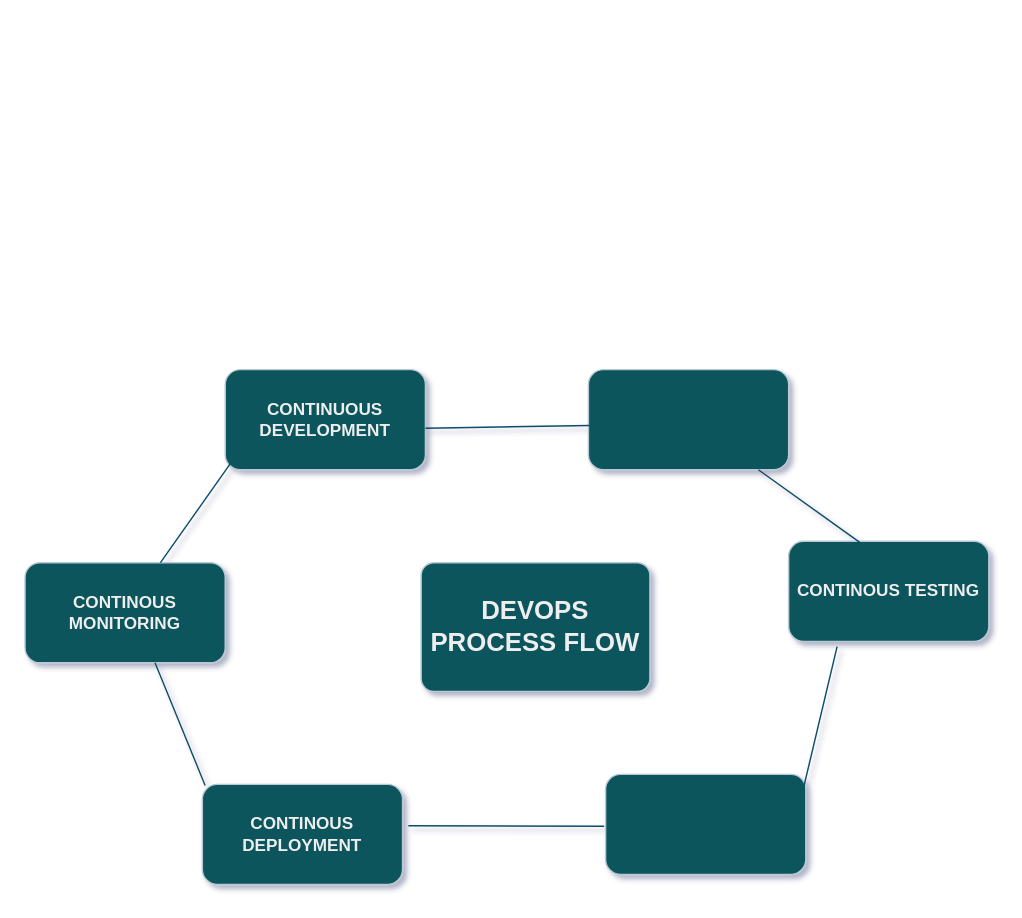
The diagram is 1022 pixels wide and 918 high, and some of its shapes have lost their labels. The box of each missing label's shape, as (x1, y1, x2, y2) in pixels:
CONTINOUS DELIVERY: (604, 773, 806, 874)
CONTINOUS INTEGRATION: (587, 368, 789, 470)
